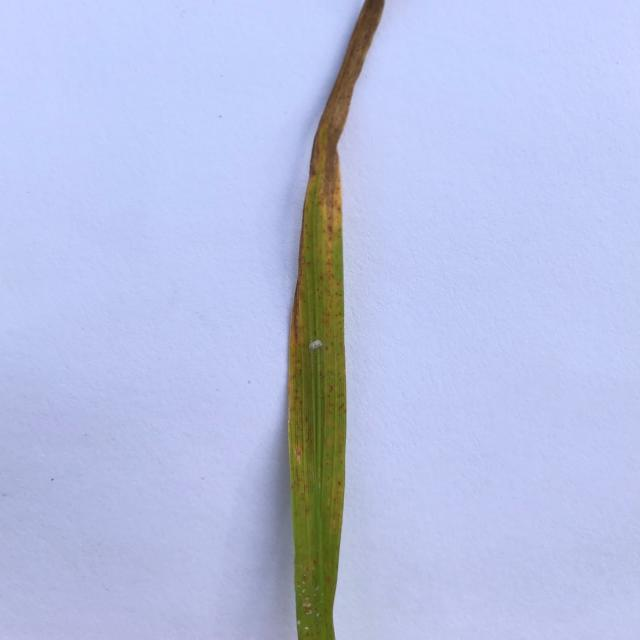tungro: (288, 0, 389, 531)
